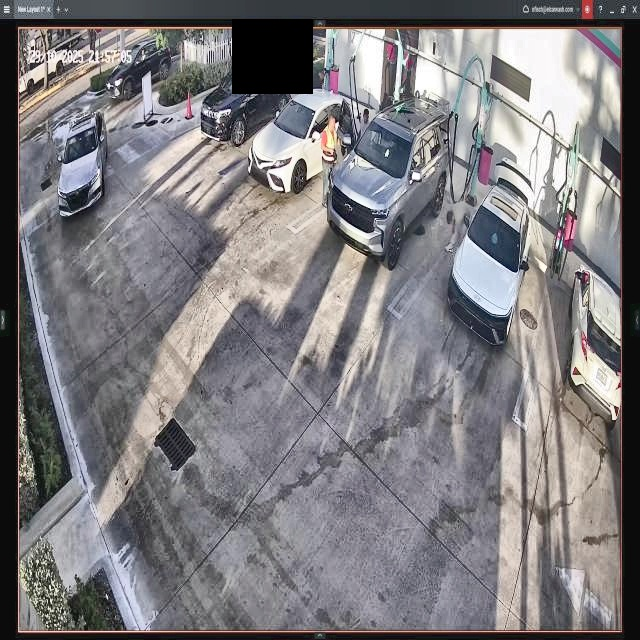Car: (329, 99, 449, 267), (451, 164, 531, 346), (247, 90, 358, 190)
